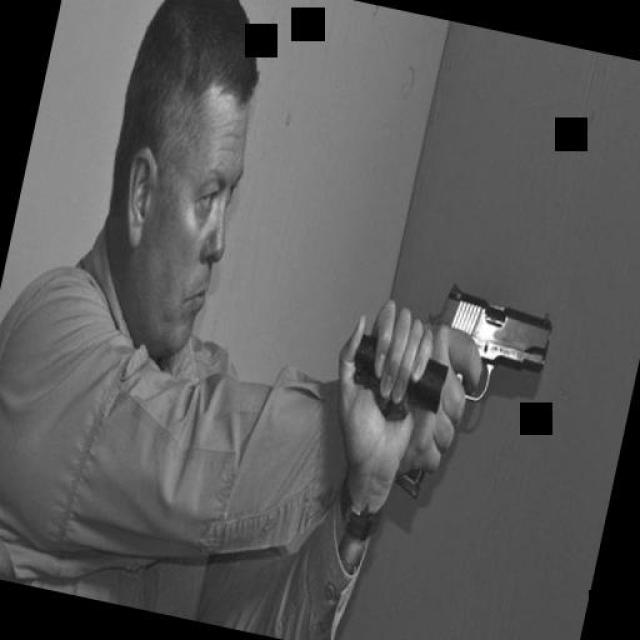gun: (371, 258, 560, 526)
